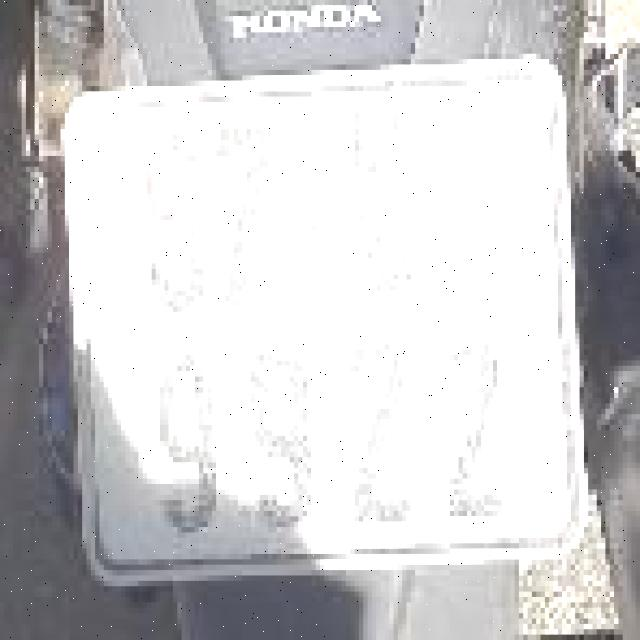1: (430, 81, 495, 312)
2: (422, 317, 521, 522), (335, 326, 413, 540)
6: (128, 124, 210, 317)
7: (208, 97, 286, 312)
9: (136, 331, 223, 546), (238, 339, 320, 522)
U: (346, 91, 432, 318)
